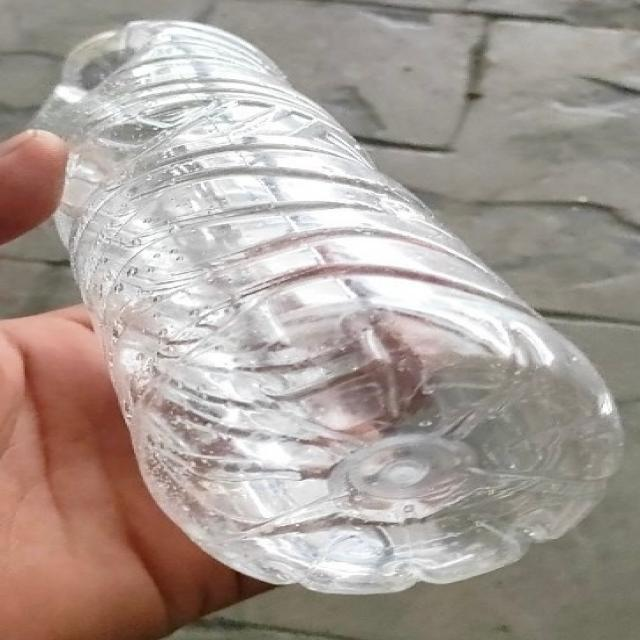bottle: (33, 20, 627, 594)
